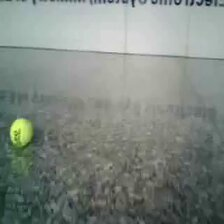tennis: (9, 117, 34, 149)
